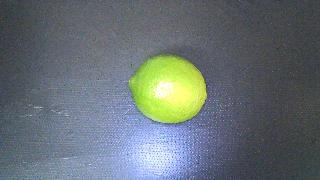EXPORTACION: (129, 54, 207, 123)
